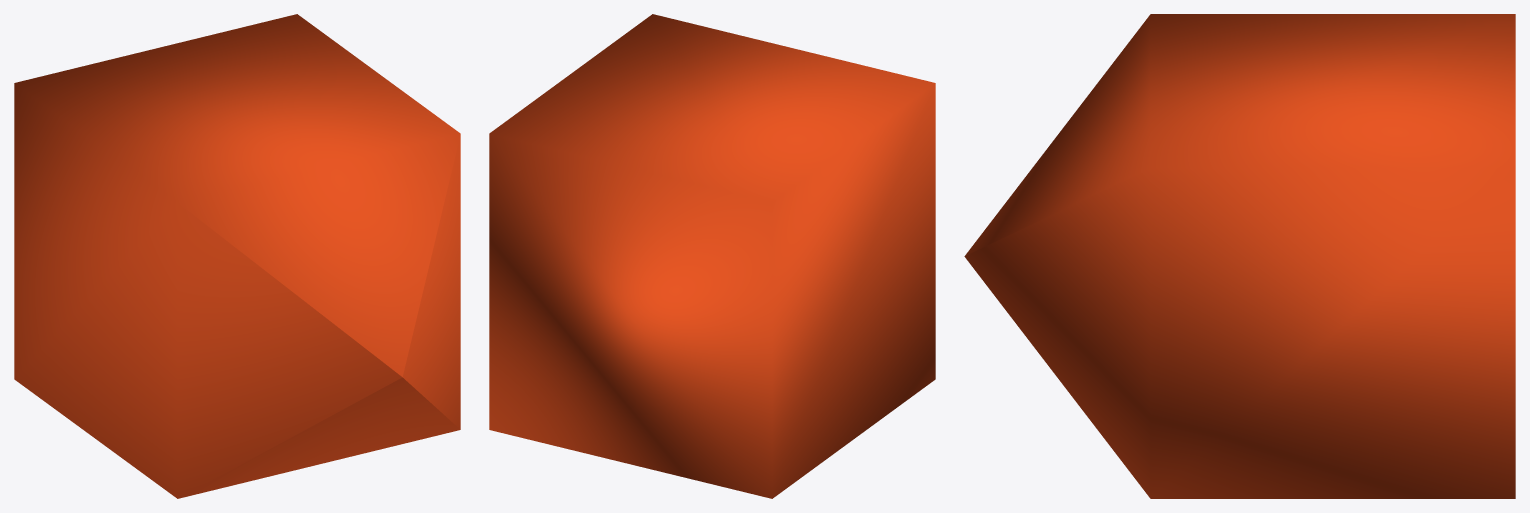
File: pointycube4.fbx
3 views of the same model, side by side, from view 1: azimuth 30°, elevation 25°; view 2: azimuth 150°, elevation 25°; view 3: azimuth 270°, elevation 25° (orthographic). The views are drawn at different scales.
Parts seen in each view (by area): view 1: Cube; view 2: Cube; view 3: Cube.
Boxes of the visible parts, x1=… form: Cube: x1=14, y1=14, x2=460, y2=498; Cube: x1=489, y1=14, x2=935, y2=498; Cube: x1=964, y1=14, x2=1515, y2=498.
Bounding box in the file's own units: 0.5 × 0.5 × 0.7551.
2 materials, 2 textured.
